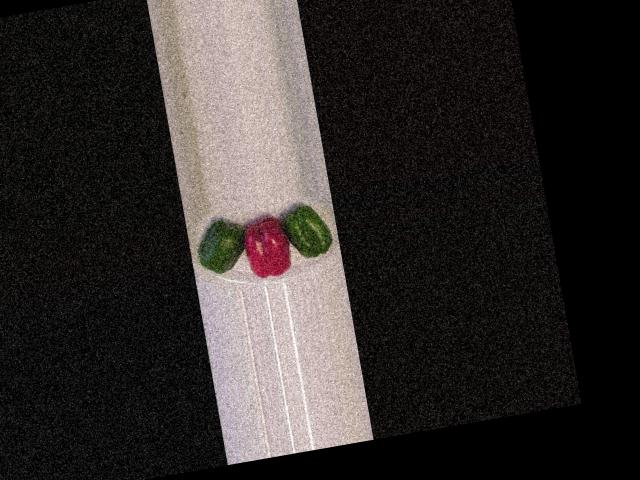bell_pepper: (189, 211, 252, 283)
